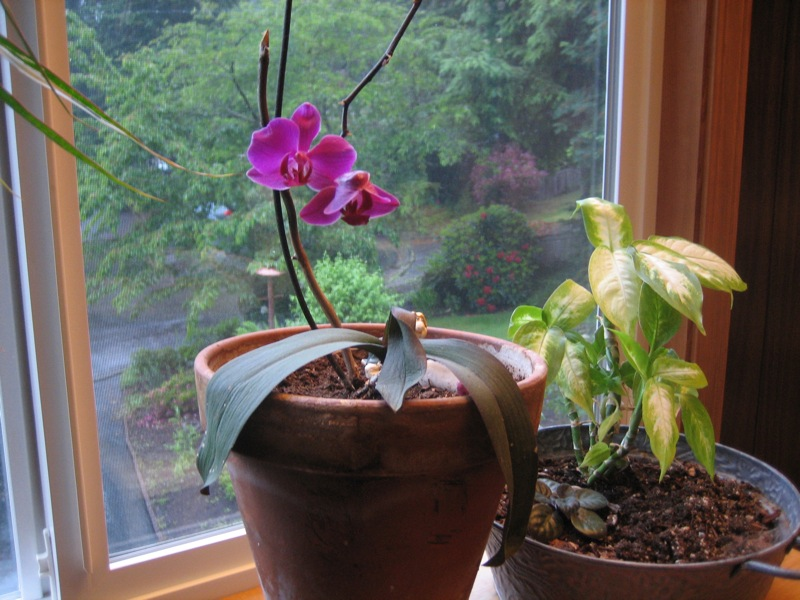potted plant: (192, 150, 547, 600), (491, 381, 790, 600)
